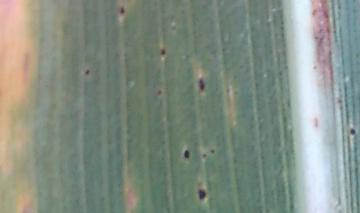tarspot: (194, 75, 208, 95), (194, 185, 209, 202), (179, 146, 193, 163), (155, 45, 172, 57), (80, 66, 93, 79), (117, 3, 128, 18), (346, 125, 357, 139), (155, 86, 163, 96), (200, 152, 209, 160), (209, 146, 216, 155)
